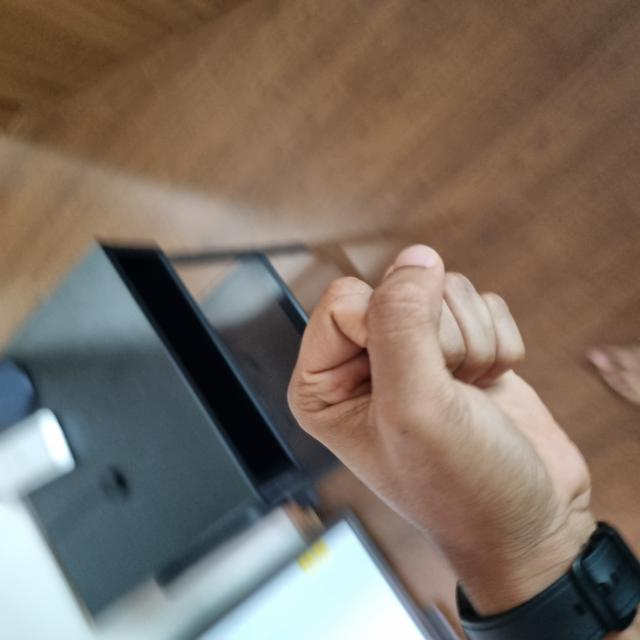Rock: (47, 288, 394, 599)
